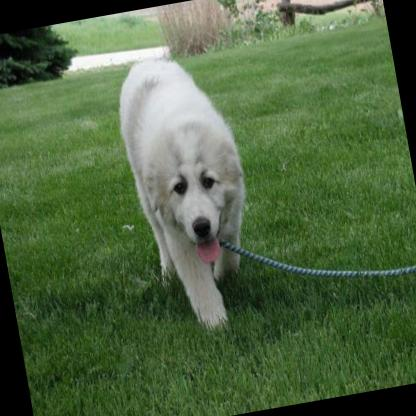Great_Pyrenees: (105, 43, 266, 336)
